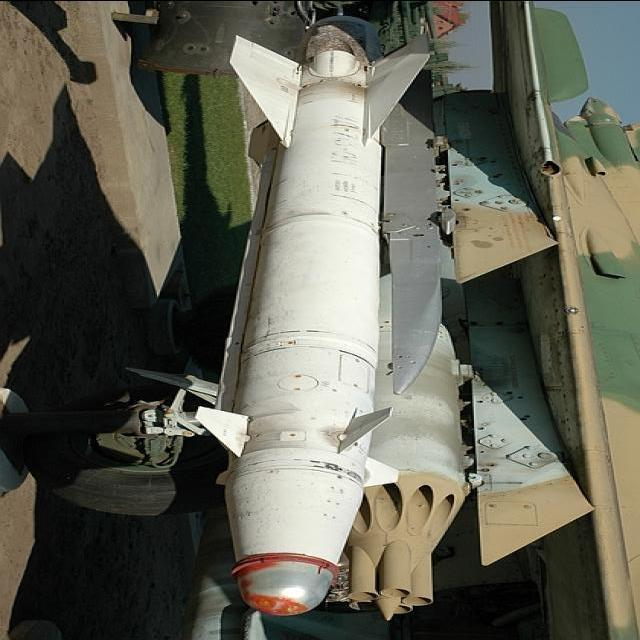missile: (208, 20, 392, 610)
